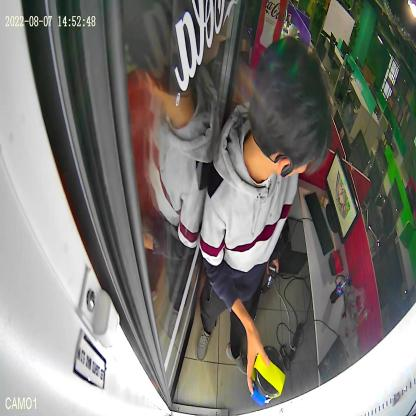blue: (251, 376, 271, 406)
yellow: (252, 346, 286, 400)
